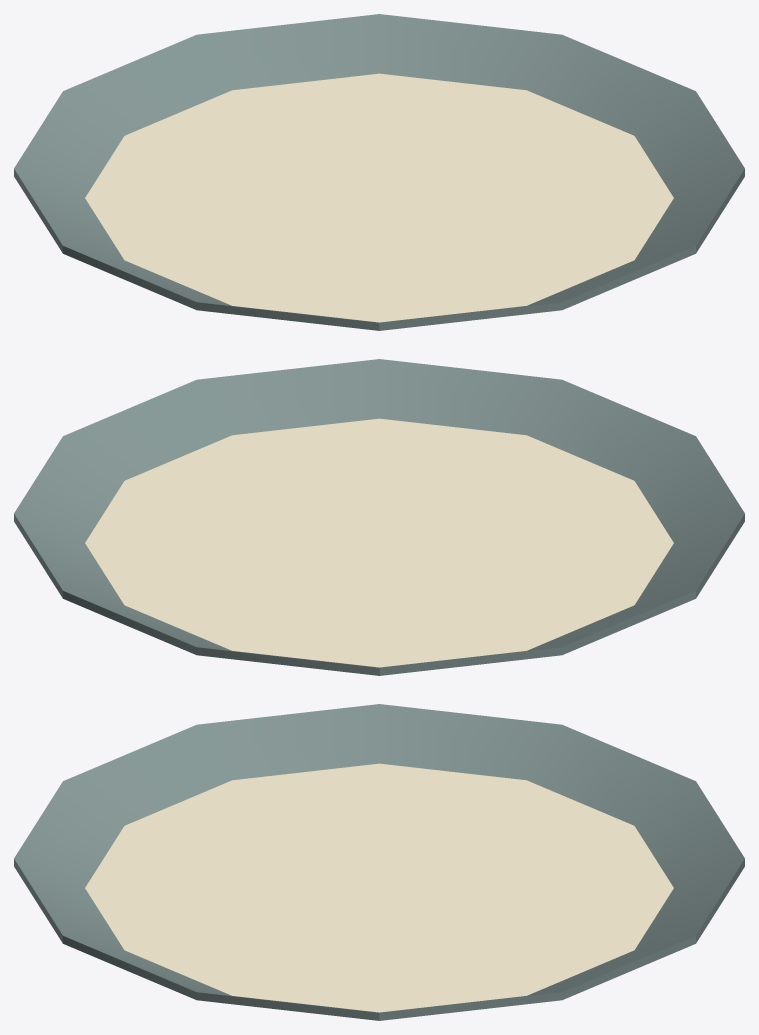
Rendered from plate.fbx.
3 renders of one model, top to bottom at view 1: azimuth 30°, elevation 25°; view 2: azimuth 150°, elevation 25°; view 3: azimuth 270°, elevation 25°, orthographic.
Visible parts, largest first — view 1: plate; view 2: plate; view 3: plate.
Part boxes in pixels (x1,y1,x2,y2): plate: (14,14,744,330); plate: (14,359,744,675); plate: (14,704,744,1020).
Bounding box in the file's own units: 113 × 6.42 × 113.
